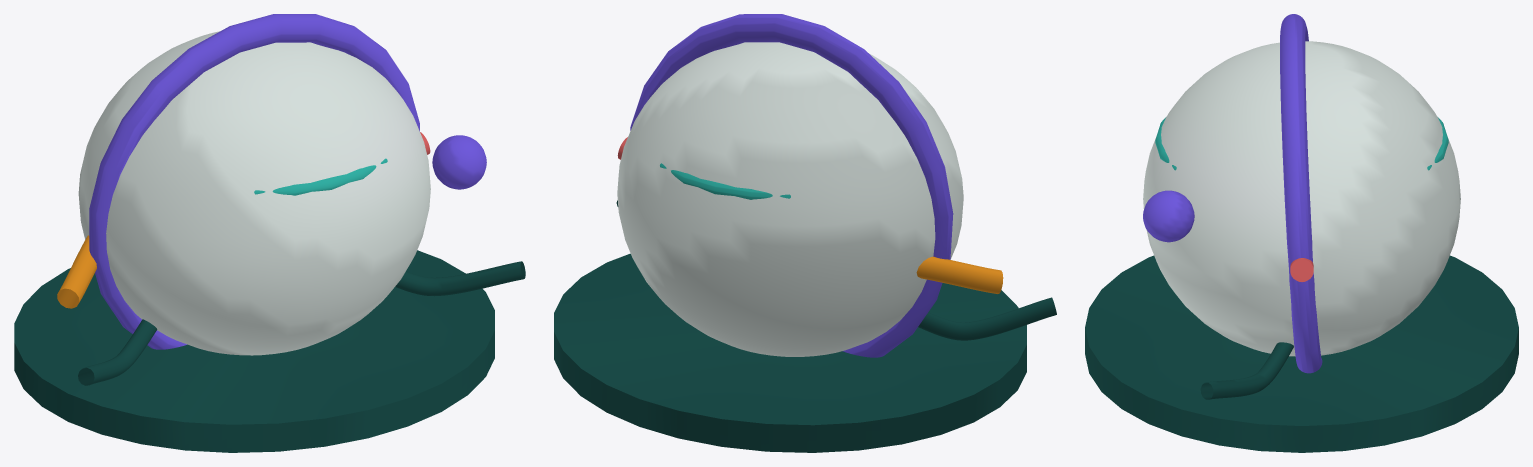
File: 1237_细胞图鉴_衰老的动物细胞.glb
The picture shows the model from 3 angles, left to right: view 1: azimuth 30°, elevation 25°; view 2: azimuth 150°, elevation 25°; view 3: azimuth 270°, elevation 25°; orthographic projection. The views are drawn at different scales.
Visible parts, largest first — view 1: card_1237; view 2: card_1237; view 3: card_1237.
Boxes of the visible parts, x1,y1,x2,y2 form: card_1237: (14, 14, 525, 452); card_1237: (554, 14, 1056, 452); card_1237: (1085, 14, 1518, 452).
Bounding box in the file's own units: 1.35 × 1 × 1.19.
